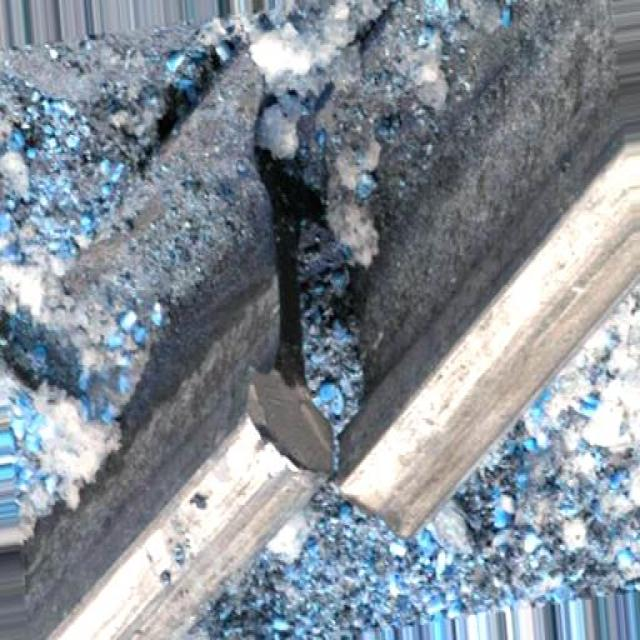crack: (192, 0, 449, 602)
